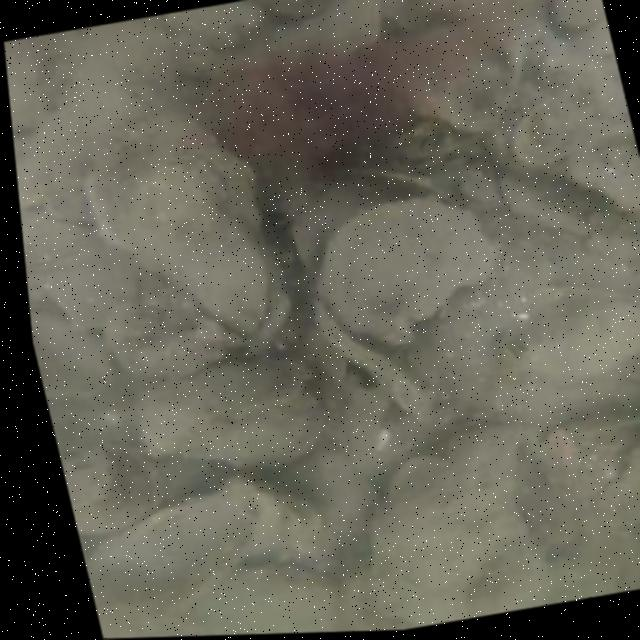Oyster-Closed: (507, 297, 640, 384)
Oyster-Indeterminate: (83, 109, 264, 272), (314, 193, 495, 345), (128, 154, 271, 333), (369, 468, 528, 626), (311, 24, 525, 123), (141, 389, 326, 472), (195, 563, 338, 634), (140, 357, 311, 416), (276, 449, 377, 532), (273, 0, 381, 70), (391, 456, 452, 509), (446, 425, 518, 469), (559, 0, 605, 24)
